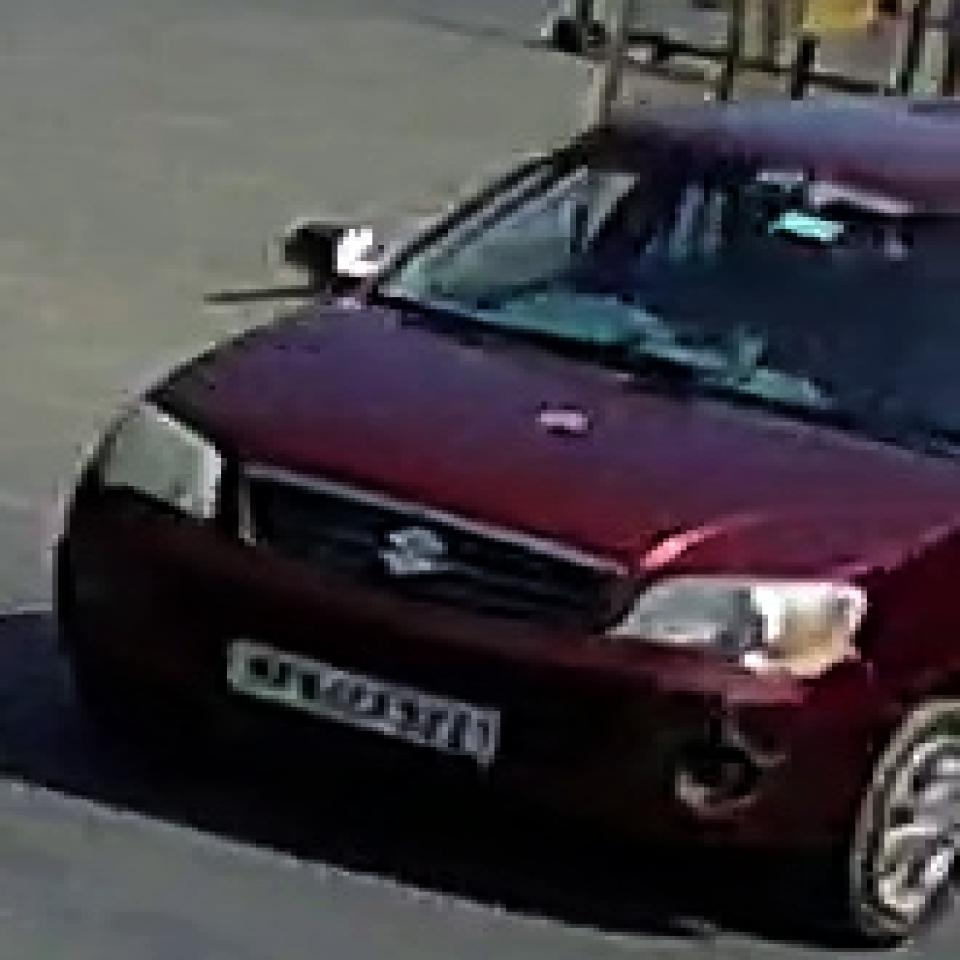head_light: (627, 572, 883, 663), (94, 397, 232, 524)
